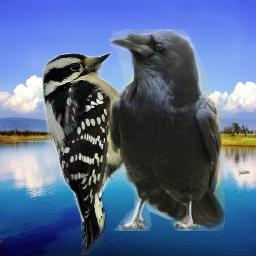Crow: (107, 29, 225, 231)
Woodpecker: (39, 48, 166, 255)
